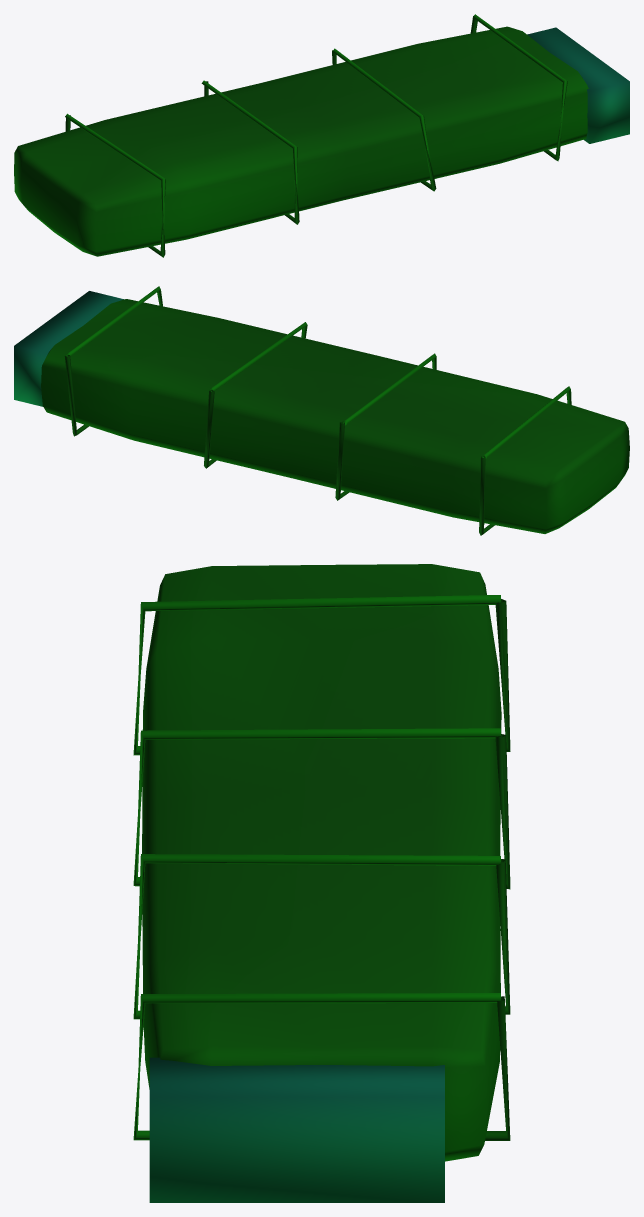
The model's file is terrace_name_board_wrapped.glb.
3 renders of one model, top to bottom at view 1: azimuth 30°, elevation 25°; view 2: azimuth 150°, elevation 25°; view 3: azimuth 270°, elevation 25°, orthographic. The views are drawn at different scales.
Visible parts, largest first — view 1: terrace_name_board_wrapped; view 2: terrace_name_board_wrapped; view 3: terrace_name_board_wrapped.
Part boxes in pixels (bbox=[...]): terrace_name_board_wrapped: bbox=[14, 14, 629, 257]; terrace_name_board_wrapped: bbox=[14, 286, 629, 535]; terrace_name_board_wrapped: bbox=[133, 564, 510, 1202].
Size of what is drawn, in the model's own units: 2.02 by 0.2853 by 0.6113.
